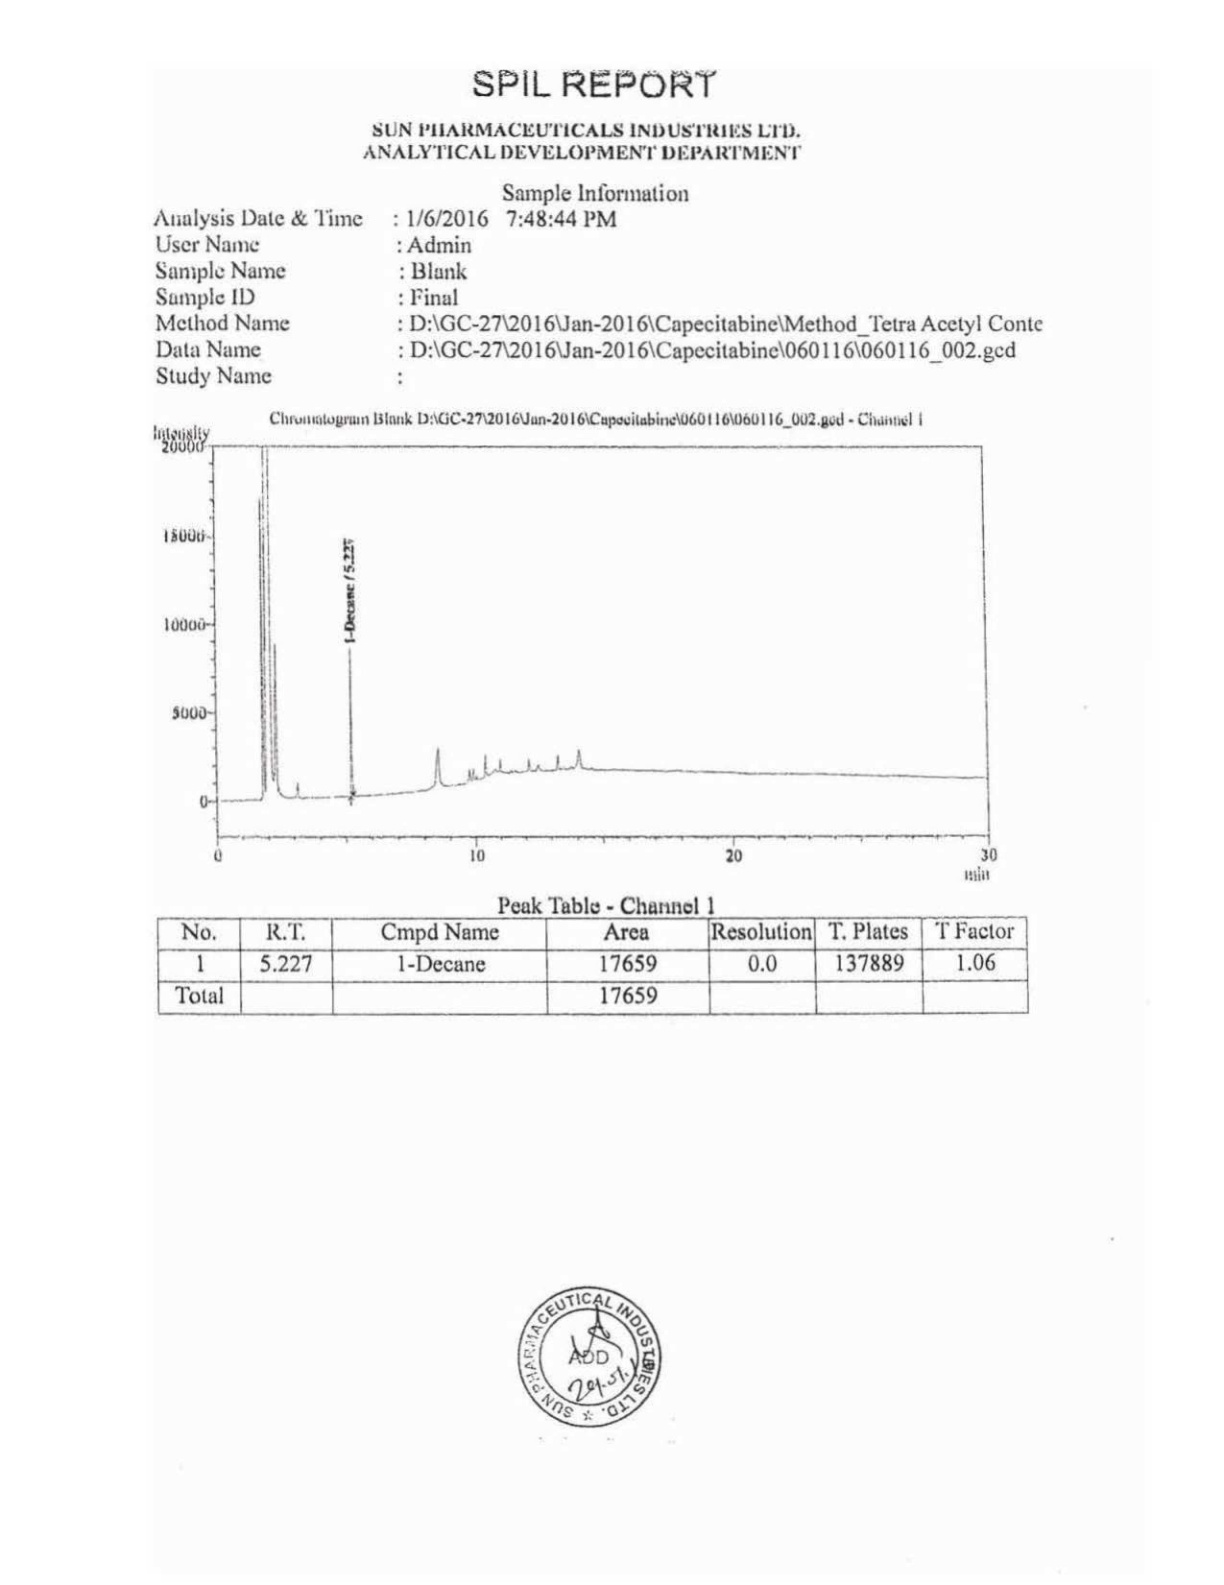full_lined: (154, 915, 1031, 1016)
nolines: (150, 207, 1050, 392)
